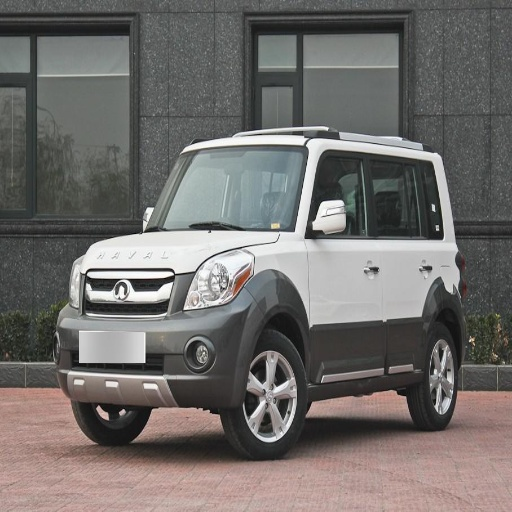front_bumper: (56, 257, 260, 408)
front_glass: (149, 147, 307, 230)
front_left_door: (303, 148, 385, 382)
